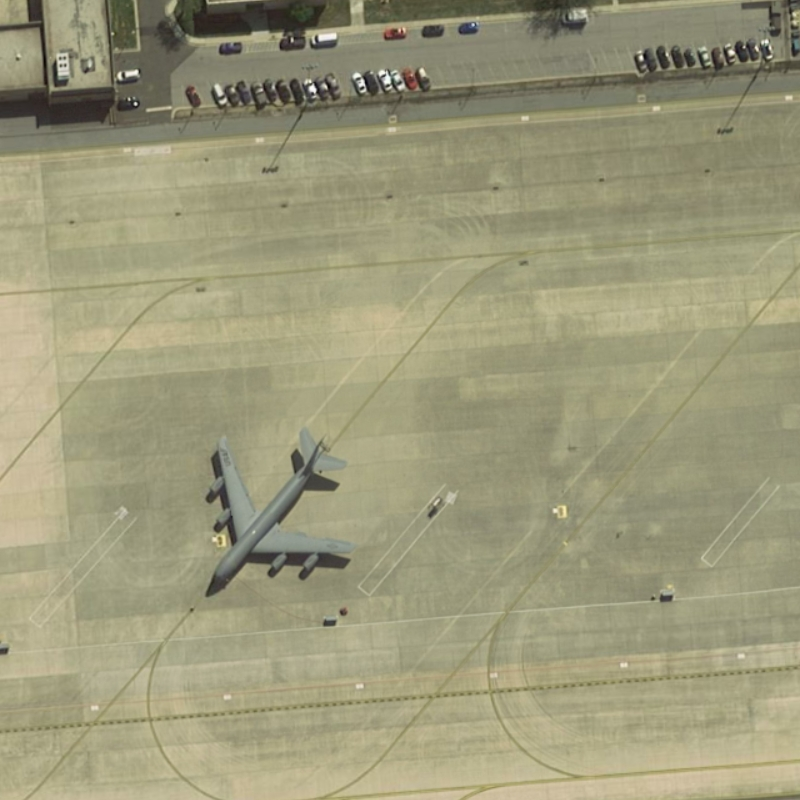A14: (200, 422, 363, 596)
